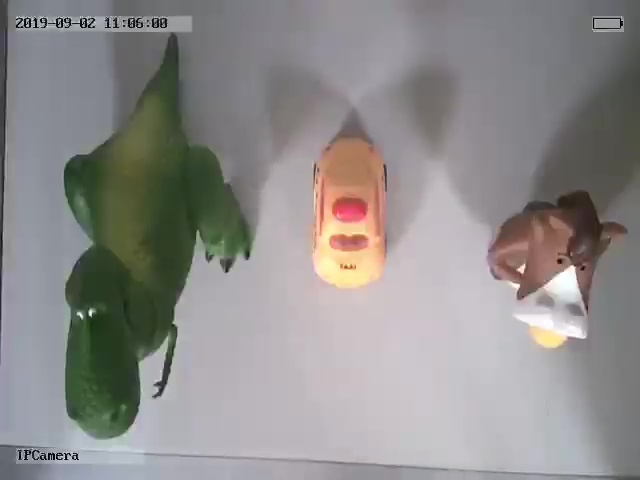car: (309, 135, 391, 288)
horse: (488, 191, 629, 349)
rex: (62, 46, 253, 439)
